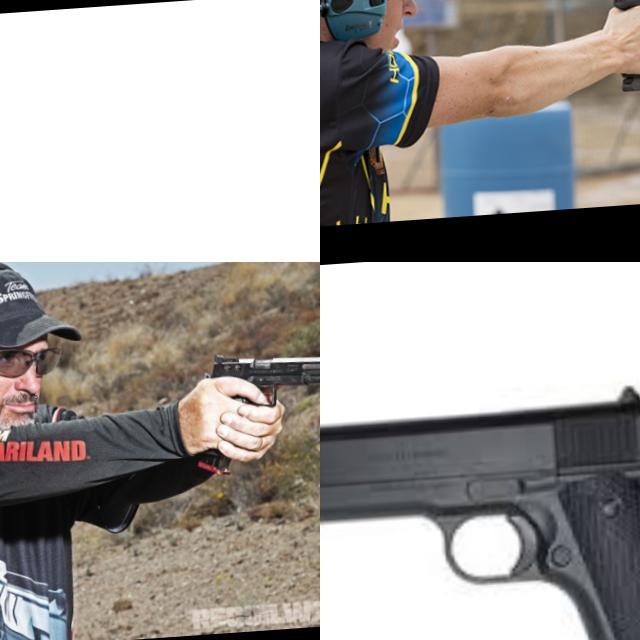handgun: (320, 372, 640, 640), (199, 339, 320, 413), (0, 139, 60, 256)
